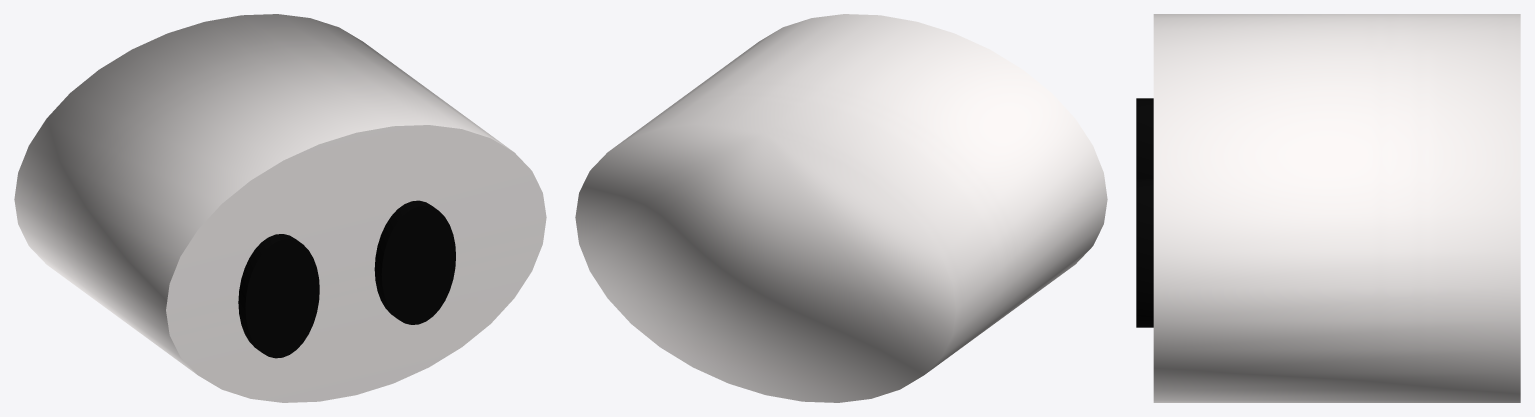
Rendered from nose_04.fbx.
3 views of the same model, side by side, from view 1: azimuth 30°, elevation 25°; view 2: azimuth 150°, elevation 25°; view 3: azimuth 270°, elevation 25° (orthographic). The views are drawn at different scales.
Parts seen in each view (by area): view 1: Nose_04; view 2: Nose_04; view 3: Nose_04.
Part boxes in pixels (left/top/right/bottom): Nose_04: left=14, top=14, right=546, bottom=402; Nose_04: left=575, top=14, right=1107, bottom=402; Nose_04: left=1136, top=14, right=1520, bottom=402.
Size of the model in its own units: 32.15 by 21.19 by 23.21.
